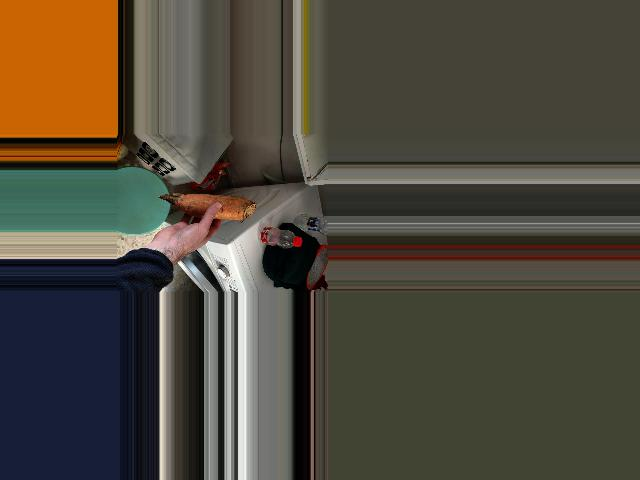sweet_potato: (160, 194, 249, 219)
